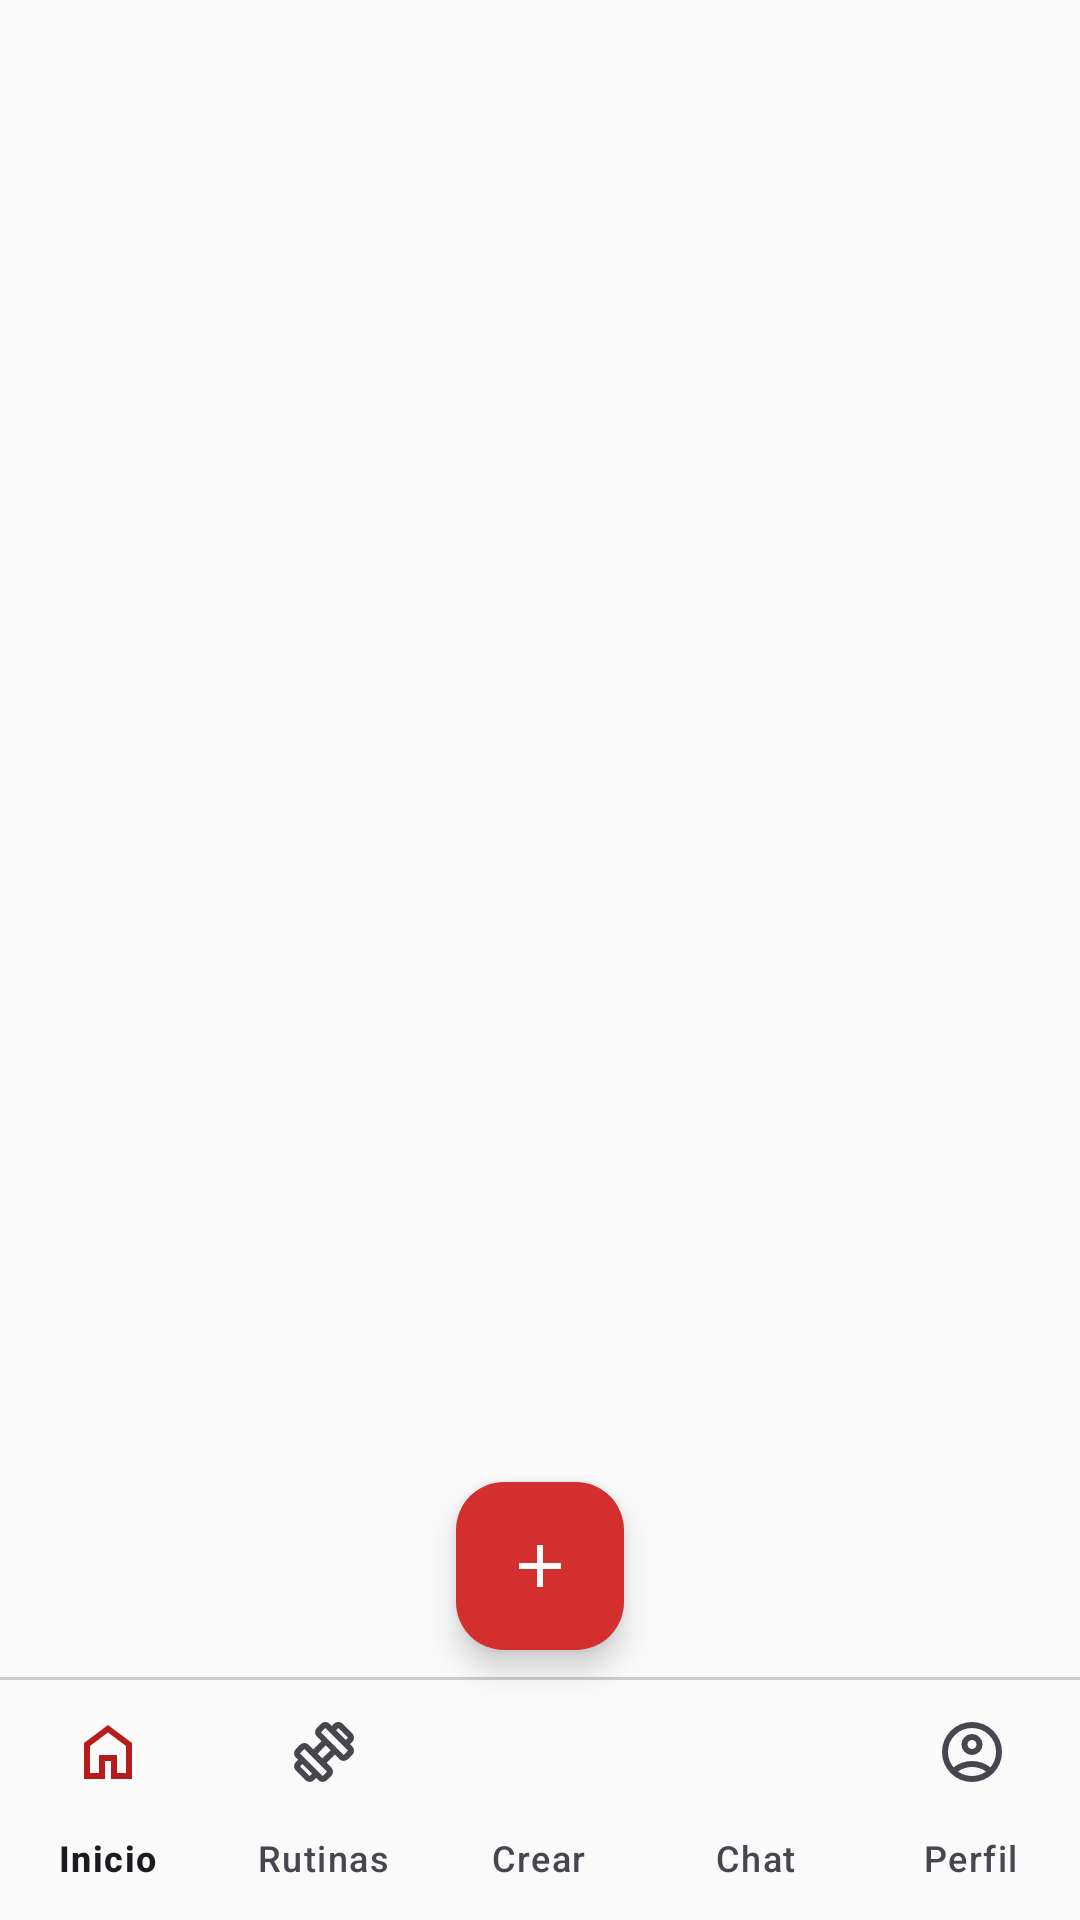

Where icons sit on this 1080px x 1920px app screen, as (x1, y1, x2, y2):
crear: (456, 1482, 624, 1650)
